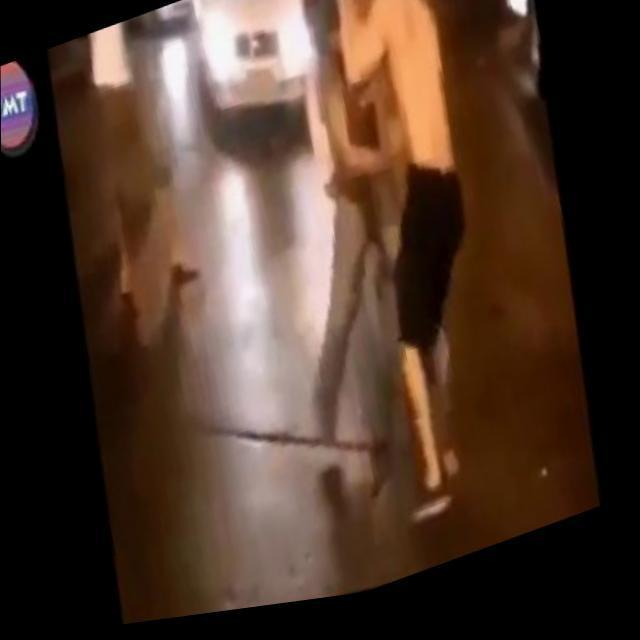fight: (209, 0, 559, 541)
